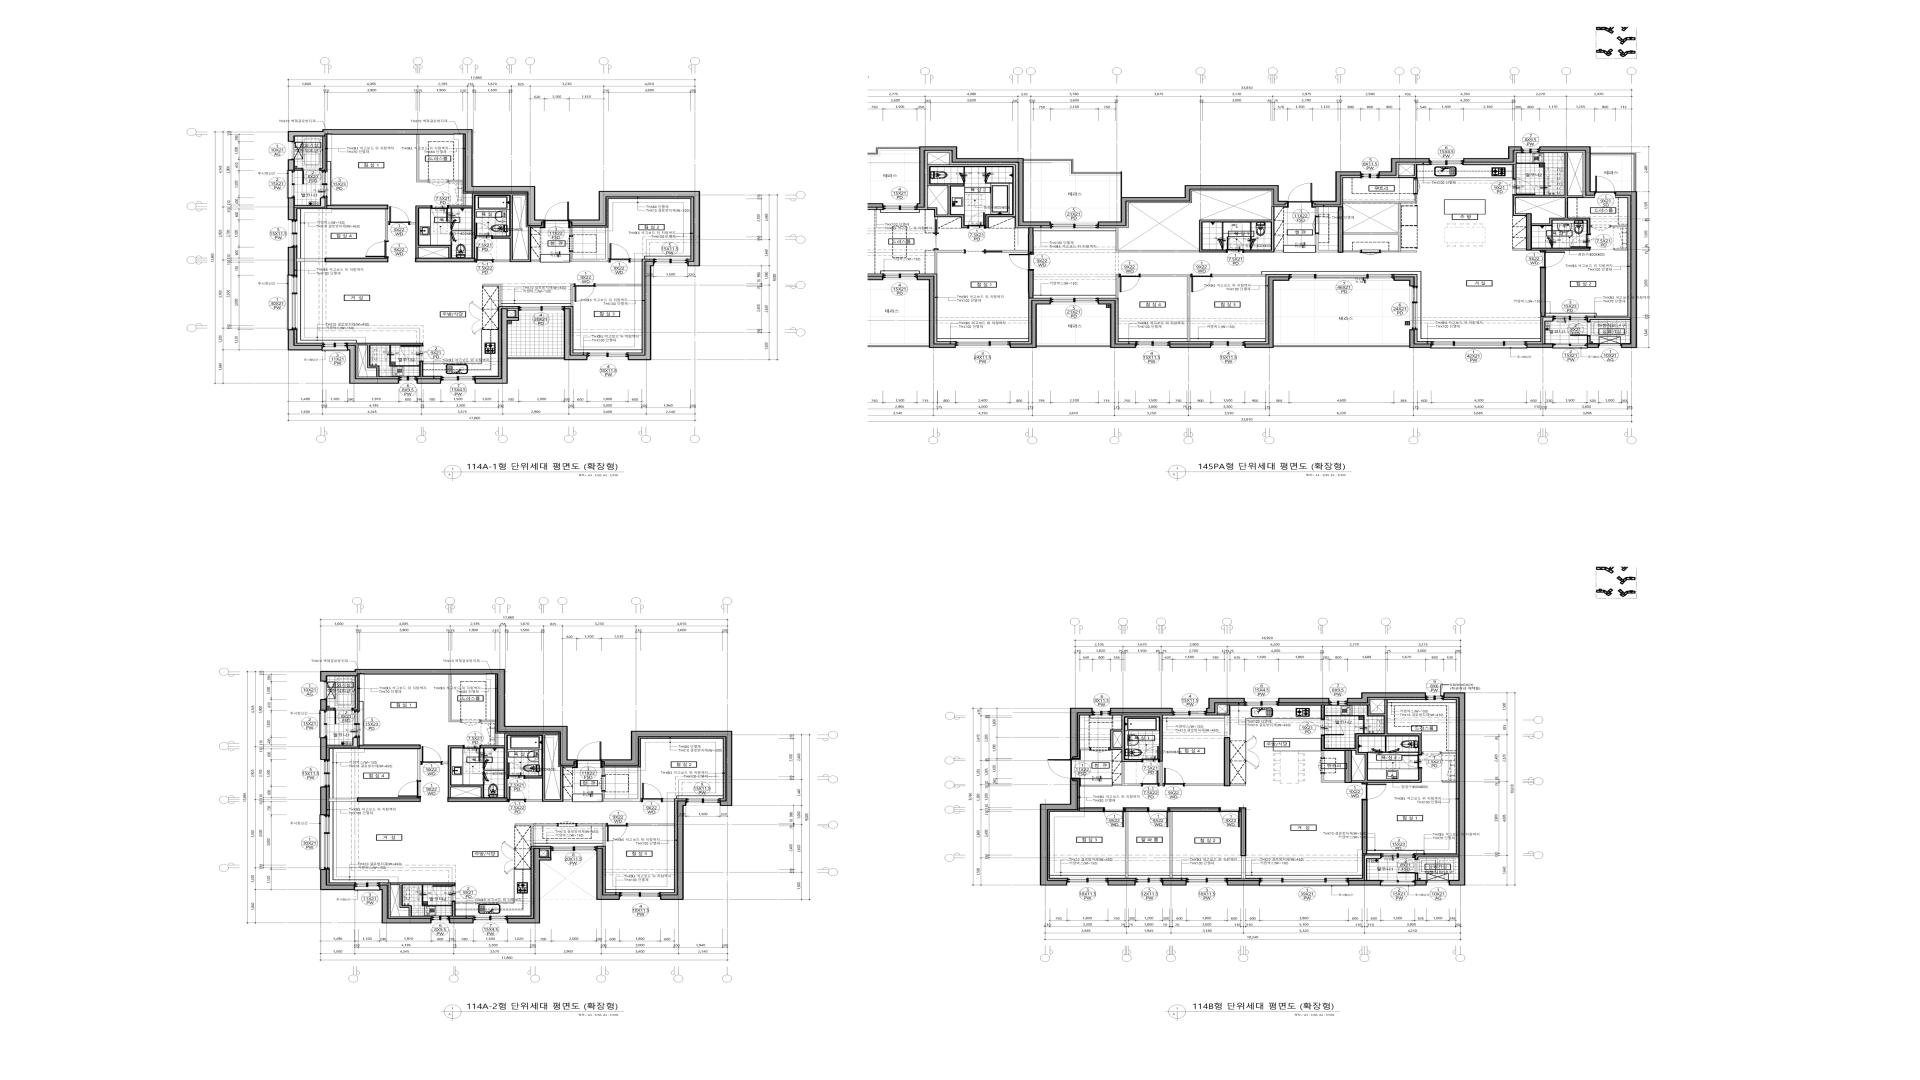door: (1047, 758, 1081, 779), (543, 203, 570, 228), (576, 741, 601, 767), (1147, 807, 1170, 828), (1288, 183, 1312, 203), (1361, 783, 1387, 800), (608, 243, 630, 262), (1102, 807, 1125, 827), (1218, 807, 1241, 827), (1009, 253, 1034, 270), (1540, 251, 1565, 268), (1163, 767, 1184, 787), (605, 823, 628, 841), (1118, 274, 1141, 293), (400, 345, 423, 363), (1513, 178, 1536, 195), (388, 207, 409, 225), (574, 284, 595, 302), (421, 746, 442, 765), (641, 783, 662, 802), (1191, 274, 1212, 293), (1321, 719, 1344, 736), (433, 885, 455, 902), (398, 781, 421, 798), (365, 241, 389, 257), (1596, 175, 1615, 194), (1398, 858, 1419, 874), (463, 745, 481, 762), (475, 223, 493, 240), (302, 167, 320, 185), (1402, 754, 1423, 769), (1571, 233, 1592, 248), (508, 762, 525, 779), (1226, 236, 1244, 253), (968, 212, 985, 229), (475, 247, 493, 262), (508, 786, 526, 802), (1571, 322, 1590, 336), (335, 708, 352, 724), (1142, 746, 1159, 762), (1142, 771, 1159, 787), (431, 206, 448, 222), (429, 179, 448, 186), (1361, 249, 1381, 256), (460, 720, 481, 725), (1590, 225, 1611, 231), (1091, 748, 1110, 753), (1414, 178, 1420, 194), (1423, 752, 1441, 757), (558, 822, 576, 827), (1319, 758, 1325, 773), (934, 233, 939, 251), (964, 249, 985, 253)
wall: (320, 669, 576, 766), (287, 129, 543, 225), (916, 146, 1051, 227), (570, 191, 700, 266), (601, 731, 732, 806), (1321, 699, 1422, 783), (1098, 185, 1288, 227), (1116, 207, 1283, 253), (1513, 153, 1590, 233), (448, 194, 539, 262), (481, 733, 572, 802), (927, 165, 1015, 228), (1344, 194, 1418, 252), (1444, 692, 1465, 886), (1040, 779, 1077, 886), (1023, 158, 1122, 198), (1110, 715, 1163, 786), (1615, 191, 1638, 348), (506, 848, 551, 923), (475, 309, 520, 384), (1141, 274, 1191, 342), (1245, 277, 1290, 348), (916, 276, 956, 348), (1540, 146, 1596, 196), (659, 800, 686, 901), (628, 261, 654, 360), (409, 206, 452, 257), (442, 745, 484, 798), (359, 343, 423, 377), (390, 882, 455, 916), (857, 203, 884, 281), (347, 345, 400, 384), (380, 885, 431, 923), (1010, 301, 1051, 348), (1098, 301, 1137, 348), (1592, 152, 1636, 191), (1312, 171, 1361, 206), (570, 228, 608, 262), (603, 767, 641, 802), (596, 848, 620, 901), (564, 309, 588, 360), (1069, 708, 1093, 758), (514, 824, 558, 847), (1464, 146, 1522, 162), (1379, 158, 1429, 175), (1348, 692, 1425, 703), (320, 869, 355, 890), (287, 330, 322, 351), (935, 251, 964, 274), (576, 824, 605, 847), (853, 146, 919, 156), (1207, 698, 1245, 713), (448, 674, 460, 723), (417, 135, 429, 182), (1274, 344, 1410, 348), (1217, 704, 1230, 737), (1364, 855, 1381, 880), (483, 284, 501, 306), (1316, 233, 1338, 252), (1410, 330, 1432, 348), (1110, 708, 1172, 713), (326, 204, 388, 210), (1224, 737, 1230, 786), (327, 737, 357, 748), (415, 257, 475, 262), (853, 344, 928, 348), (1036, 344, 1110, 348), (1362, 800, 1367, 855), (294, 198, 324, 207), (1543, 318, 1553, 344), (1278, 698, 1329, 703), (1125, 812, 1129, 878), (1398, 165, 1418, 178), (1241, 807, 1246, 856), (1170, 807, 1218, 812), (1540, 268, 1545, 316), (357, 798, 421, 802), (324, 258, 388, 262), (359, 745, 421, 749), (1526, 214, 1532, 251), (1338, 207, 1344, 253), (447, 798, 508, 802), (508, 356, 563, 360), (1321, 774, 1345, 783), (1345, 750, 1352, 783), (1348, 880, 1381, 886), (1394, 277, 1415, 286), (320, 786, 327, 815), (287, 247, 294, 276), (1108, 880, 1135, 886), (1027, 270, 1034, 298), (352, 676, 357, 711), (1170, 812, 1172, 878), (1228, 881, 1261, 886), (320, 137, 326, 170), (1415, 855, 1458, 858), (1588, 318, 1630, 322), (1170, 344, 1211, 348), (1532, 248, 1590, 251), (320, 737, 327, 760), (287, 198, 294, 220), (1212, 274, 1266, 277), (1029, 227, 1034, 253), (1162, 881, 1187, 886), (448, 918, 473, 923), (417, 378, 442, 384), (595, 284, 642, 286), (1079, 807, 1102, 812), (1241, 856, 1246, 878), (1125, 807, 1147, 812), (328, 798, 357, 802), (985, 251, 1029, 253), (297, 258, 324, 262), (1184, 783, 1224, 786), (1527, 344, 1553, 348), (541, 848, 551, 857), (508, 309, 518, 318), (418, 749, 421, 781), (385, 210, 388, 241), (1415, 880, 1427, 886), (320, 699, 327, 711), (287, 160, 294, 171), (451, 902, 456, 916), (1116, 274, 1118, 298), (628, 824, 674, 825), (571, 284, 574, 306), (419, 363, 423, 377), (1321, 704, 1325, 719), (1513, 164, 1516, 178), (630, 258, 642, 262), (1588, 344, 1600, 348), (935, 218, 938, 233), (481, 720, 496, 723), (1441, 752, 1456, 754), (1443, 781, 1456, 783), (496, 733, 498, 745), (662, 799, 674, 802), (295, 167, 302, 171), (1080, 748, 1089, 750), (1316, 207, 1319, 216), (1344, 251, 1361, 252), (603, 767, 605, 775), (1415, 874, 1419, 880), (1230, 785, 1246, 786), (570, 228, 572, 236), (1611, 225, 1627, 227), (1588, 336, 1590, 344), (448, 181, 463, 182), (327, 708, 334, 711), (1614, 249, 1627, 251)
window: (1432, 342, 1527, 349), (1261, 878, 1348, 886), (1290, 274, 1394, 281), (286, 276, 298, 330), (319, 815, 330, 869), (518, 306, 564, 314), (956, 342, 1010, 348), (1410, 286, 1418, 330), (587, 352, 628, 360), (620, 891, 659, 899), (1051, 222, 1098, 228), (1051, 298, 1098, 305), (551, 847, 596, 853), (1172, 708, 1207, 716), (686, 798, 720, 806), (1067, 878, 1108, 885), (442, 376, 475, 384), (1187, 878, 1226, 885), (473, 915, 506, 923), (654, 258, 687, 266), (286, 171, 295, 198), (320, 760, 330, 786), (289, 220, 298, 247), (355, 882, 380, 891), (1381, 880, 1415, 886), (1553, 315, 1588, 322), (1211, 342, 1245, 348), (1245, 699, 1278, 705), (1431, 158, 1464, 165), (1137, 342, 1170, 348), (884, 273, 916, 280), (352, 711, 360, 737), (319, 711, 327, 737), (323, 343, 347, 351), (1381, 853, 1415, 858), (1553, 344, 1588, 349), (1135, 878, 1162, 885), (320, 171, 327, 198), (884, 204, 916, 210), (400, 376, 417, 384), (1093, 708, 1110, 716), (1427, 692, 1444, 700), (431, 915, 448, 923), (1329, 699, 1348, 705), (1522, 146, 1540, 153), (1361, 171, 1379, 178), (1427, 880, 1449, 885), (320, 682, 327, 699), (289, 142, 294, 160), (1600, 344, 1622, 348)
